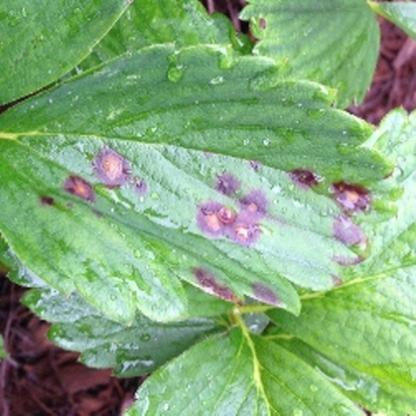Strawberry_Leaf_Spot: (0, 42, 405, 329)
